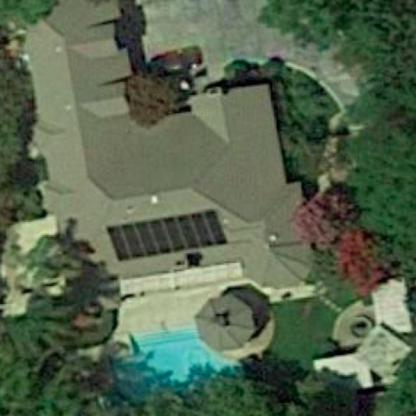solar_panel: (97, 203, 240, 264)
swimming_pool: (89, 313, 270, 411)
